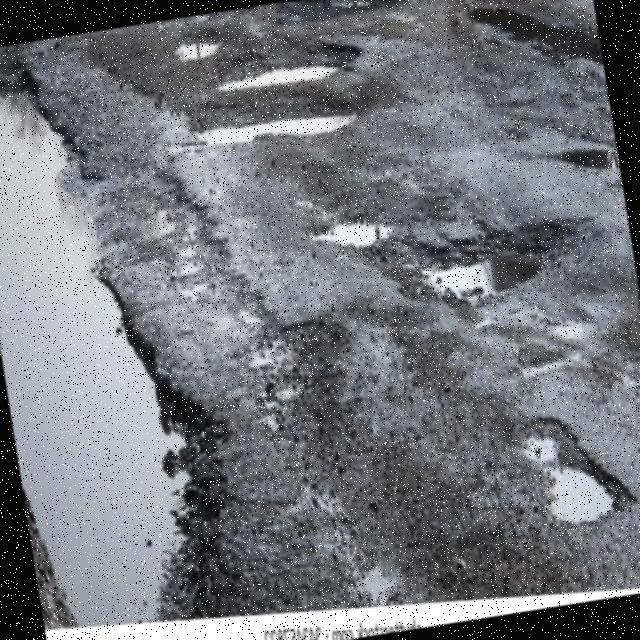Pothole: (0, 44, 220, 630), (463, 4, 619, 175), (525, 416, 637, 523), (423, 222, 570, 300), (199, 114, 354, 148), (311, 219, 403, 253), (220, 66, 338, 90), (279, 0, 408, 14), (171, 37, 220, 65)
